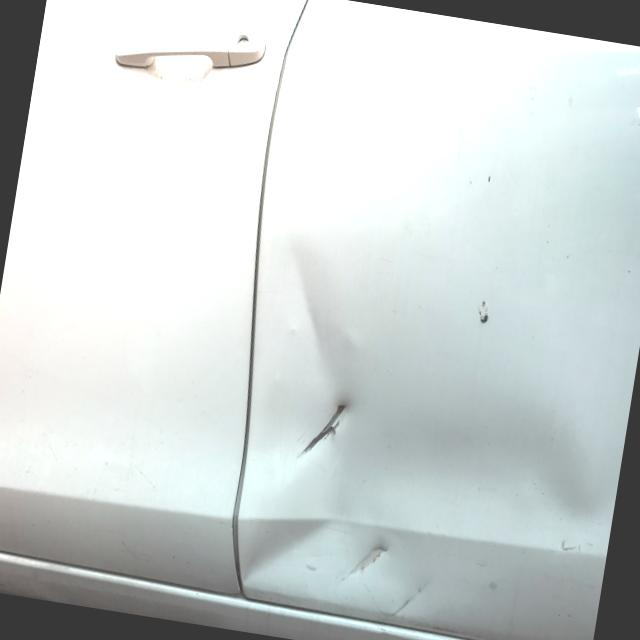Cabossage: (243, 352, 610, 621), (216, 211, 385, 582)
Rayure: (293, 383, 358, 469), (398, 570, 446, 625), (470, 289, 495, 343)
